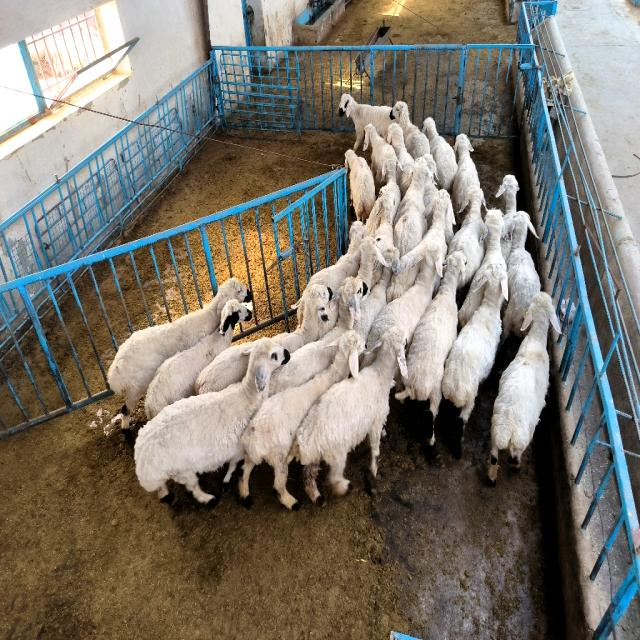sheep: (135, 338, 290, 503), (108, 278, 252, 432), (239, 330, 362, 509), (296, 327, 408, 502), (395, 252, 466, 452), (488, 292, 560, 482), (442, 263, 508, 458), (145, 300, 251, 420), (269, 277, 368, 395), (368, 243, 442, 352), (388, 190, 455, 302), (458, 210, 506, 328), (502, 212, 541, 341), (354, 245, 400, 342), (308, 222, 368, 292), (271, 285, 329, 352), (448, 187, 485, 289), (394, 158, 429, 257), (196, 344, 254, 392), (345, 150, 375, 222), (496, 175, 519, 262), (356, 237, 388, 294), (374, 185, 395, 254)
